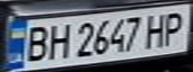2: (72, 19, 96, 58)
4: (109, 15, 130, 54)
6: (90, 17, 115, 56)
7: (121, 12, 145, 52)
B: (18, 22, 51, 63)
H: (42, 20, 72, 61), (142, 10, 172, 48)
P: (157, 8, 190, 47)
